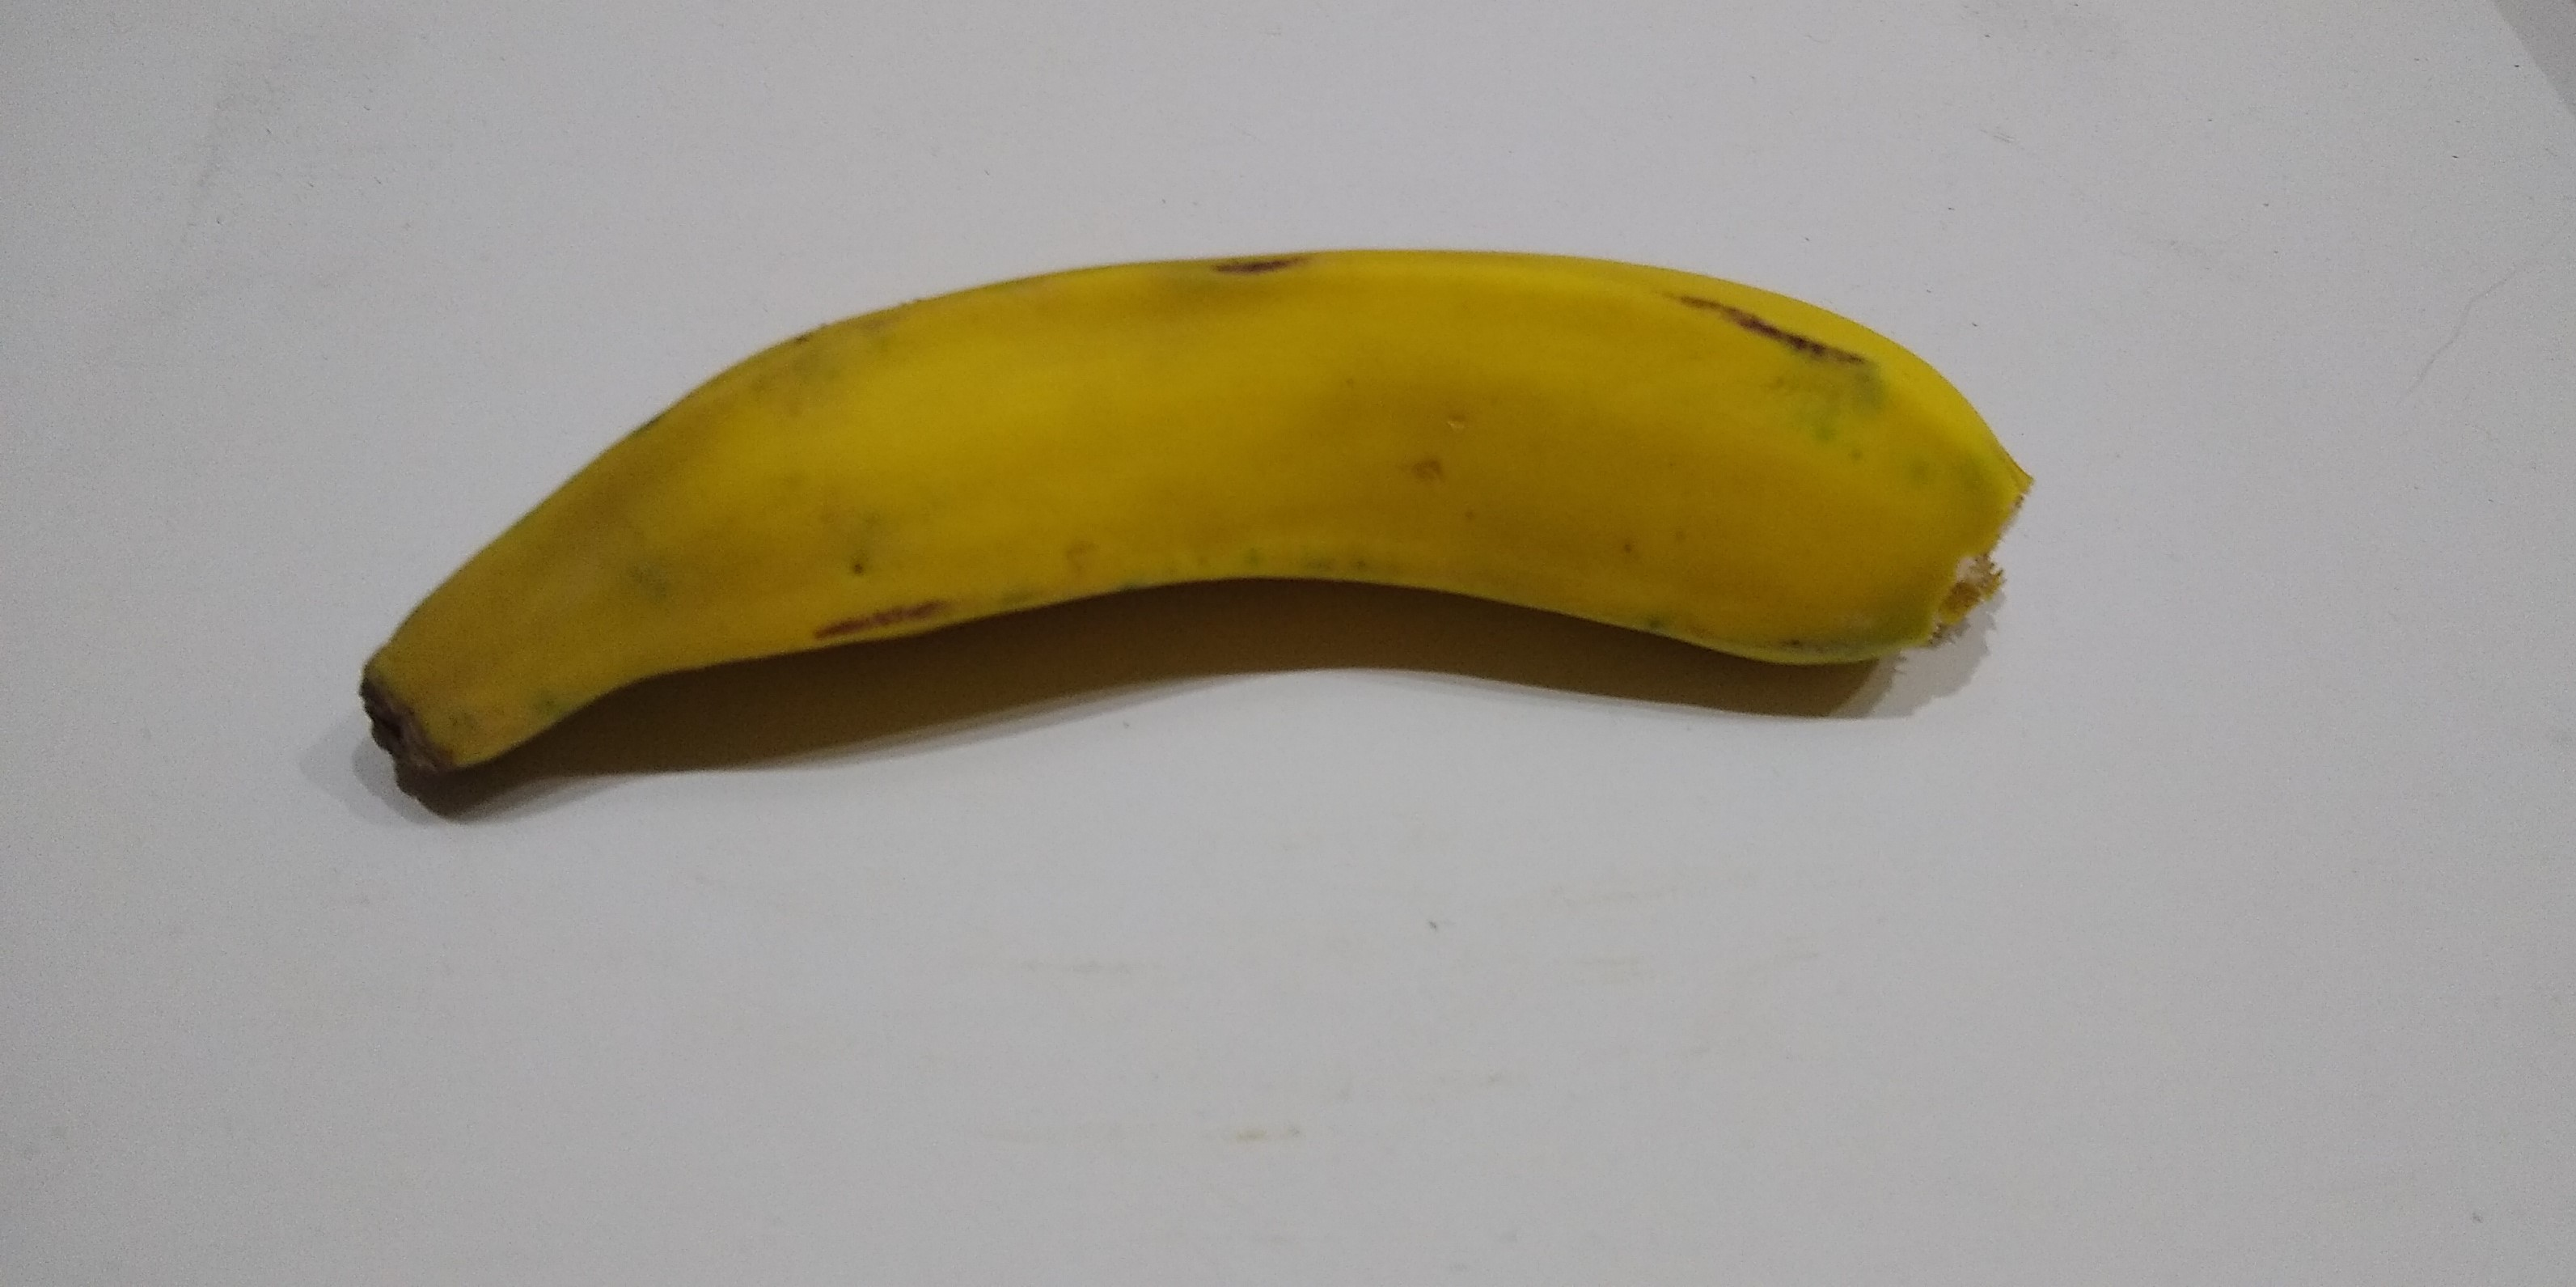Banana: (350, 225, 2066, 793)
